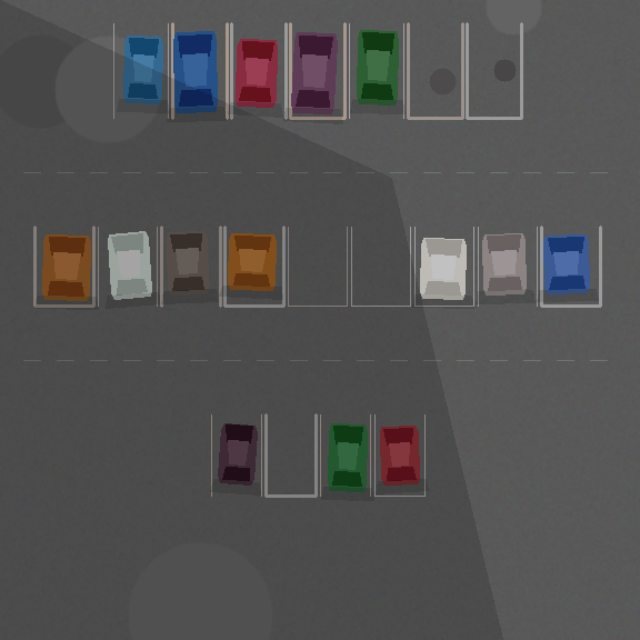space-empty: (408, 23, 462, 118), (467, 23, 521, 118), (288, 227, 347, 306), (351, 227, 410, 306), (266, 414, 316, 496)
space-occupied: (113, 23, 168, 118), (172, 23, 227, 118), (231, 23, 286, 118), (290, 23, 344, 118), (349, 23, 403, 118), (34, 227, 93, 306), (98, 227, 157, 306), (161, 227, 220, 306), (224, 227, 283, 306), (414, 227, 473, 306), (478, 227, 537, 306), (541, 227, 600, 306), (211, 414, 261, 496), (320, 414, 370, 496), (374, 414, 424, 496)
